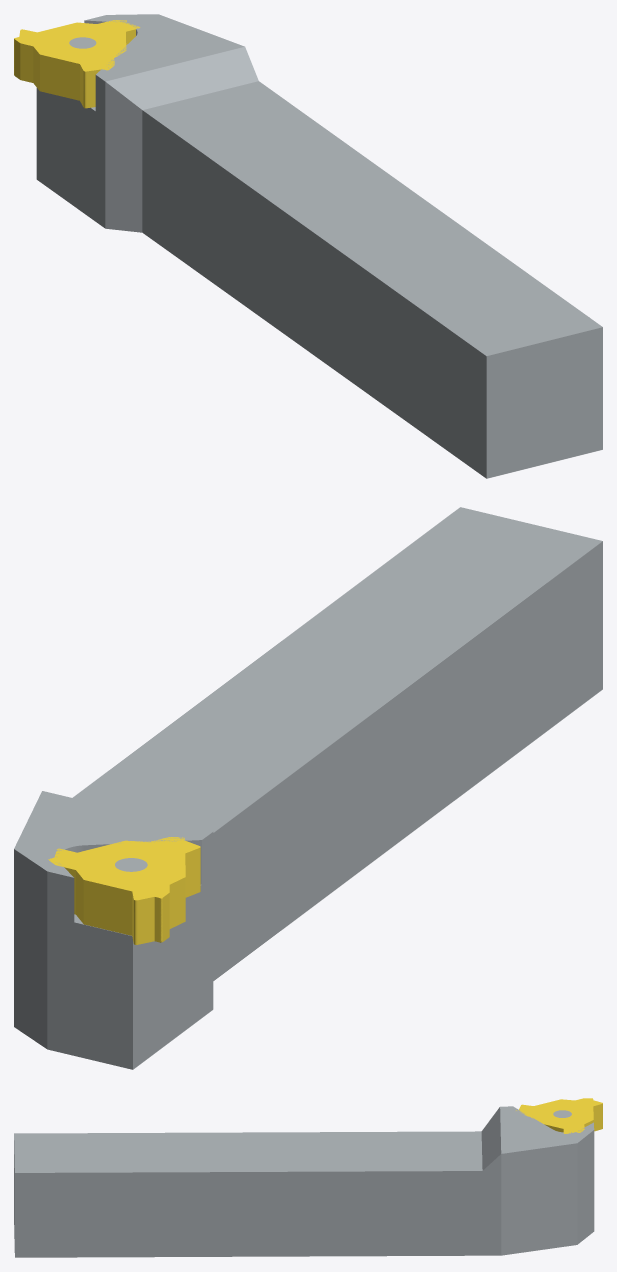
Rendered from Threading tool.fbx.
3 views of the same model, one above another, from view 1: azimuth 30°, elevation 25°; view 2: azimuth 150°, elevation 25°; view 3: azimuth 270°, elevation 25° (orthographic). The views are drawn at different scales.
Parts seen in each view (by area): view 1: imagetostl_mesh1, imagetostl_mesh0; view 2: imagetostl_mesh1, imagetostl_mesh0; view 3: imagetostl_mesh1, imagetostl_mesh0.
Boxes of the visible parts, x1,y1,x2,y2 form: imagetostl_mesh1: [36, 14, 602, 478]; imagetostl_mesh0: [14, 20, 140, 108]; imagetostl_mesh1: [14, 507, 602, 1069]; imagetostl_mesh0: [48, 837, 200, 944]; imagetostl_mesh1: [14, 1106, 594, 1257]; imagetostl_mesh0: [516, 1098, 602, 1133].
Size of the model in its own units: 731 by 600 by 3149.
